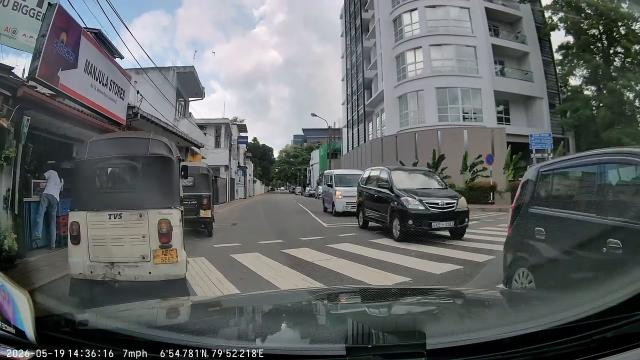illegal parking: (74, 129, 205, 302)
number plate: (149, 243, 183, 266)
